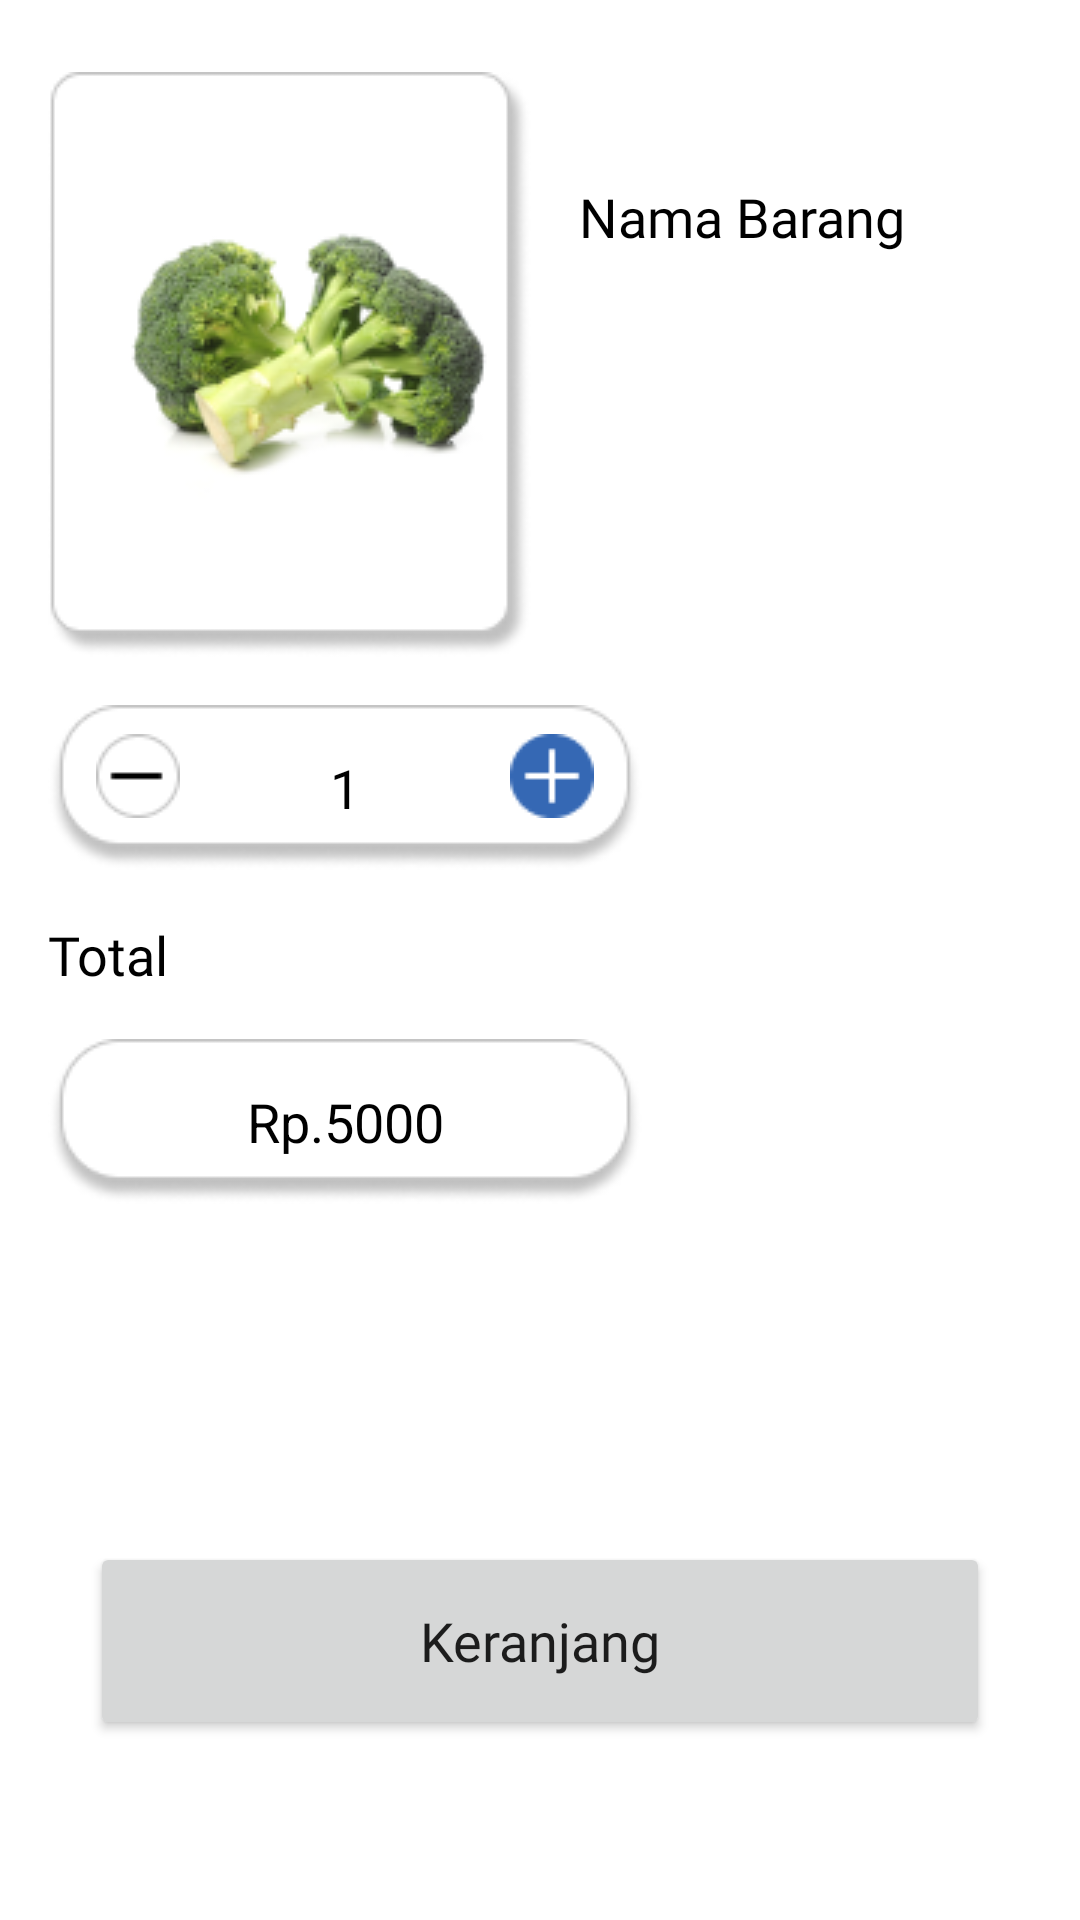

Screen size 1080px×1920px. Icon name, then its center in pixels as (x=x, y=y):
plus: (x=552, y=776)
